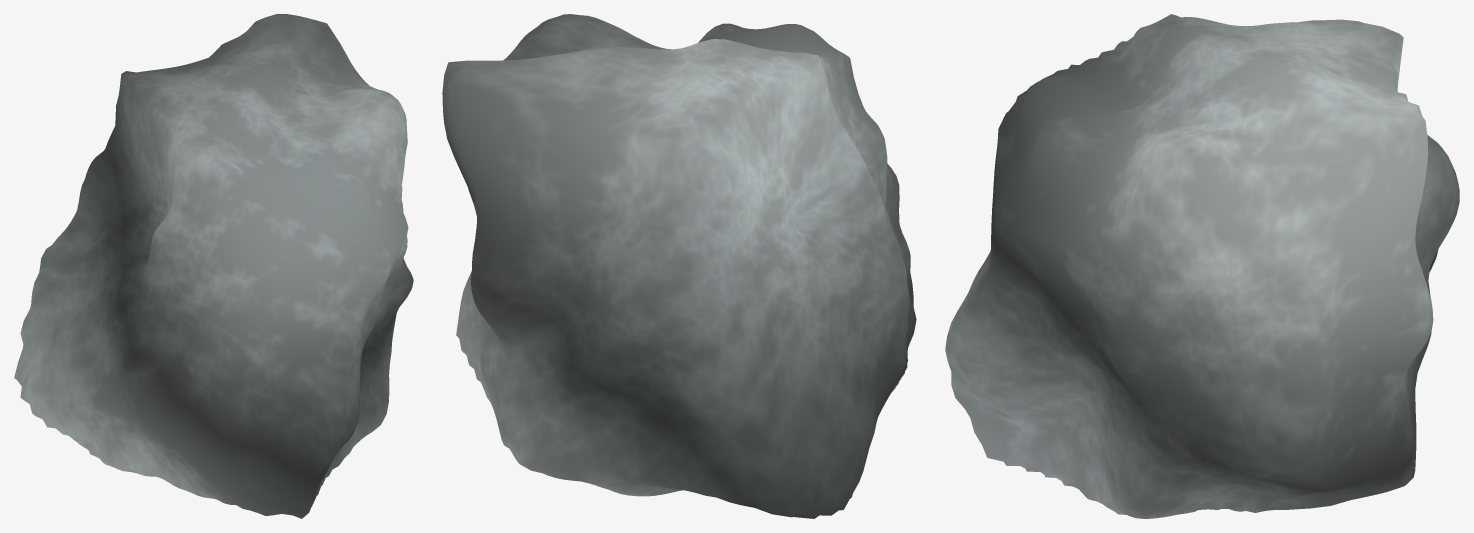
File: asteroid-beryl.glb
3 renders of one model, left to right at view 1: azimuth 30°, elevation 25°; view 2: azimuth 150°, elevation 25°; view 3: azimuth 270°, elevation 25°, orthographic. The views are drawn at different scales.
Parts seen in each view (by area): view 1: asteroid_3005; view 2: asteroid_3005; view 3: asteroid_3005.
Part boxes in pixels (x1,y1,x2,y2): asteroid_3005: (14, 14, 413, 518); asteroid_3005: (442, 14, 916, 518); asteroid_3005: (945, 14, 1459, 518).
Bounding box in the file's own units: 45.85 × 48.6 × 49.1.
1 material, 1 textured.
